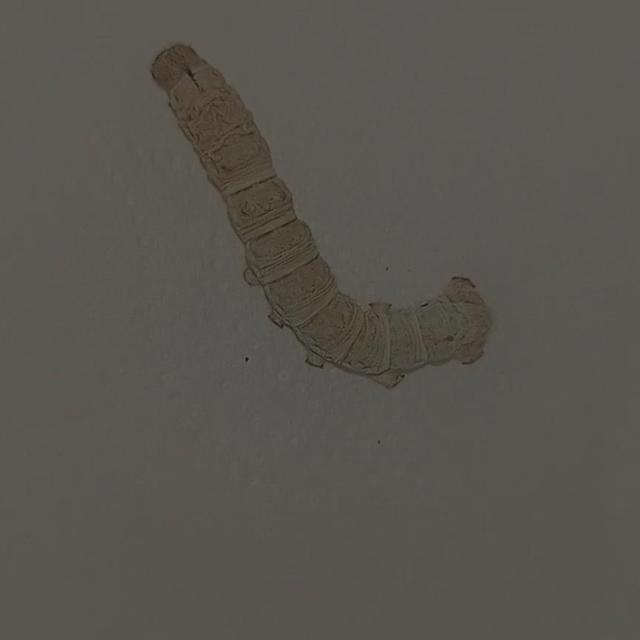Healthy: (129, 24, 534, 407)
